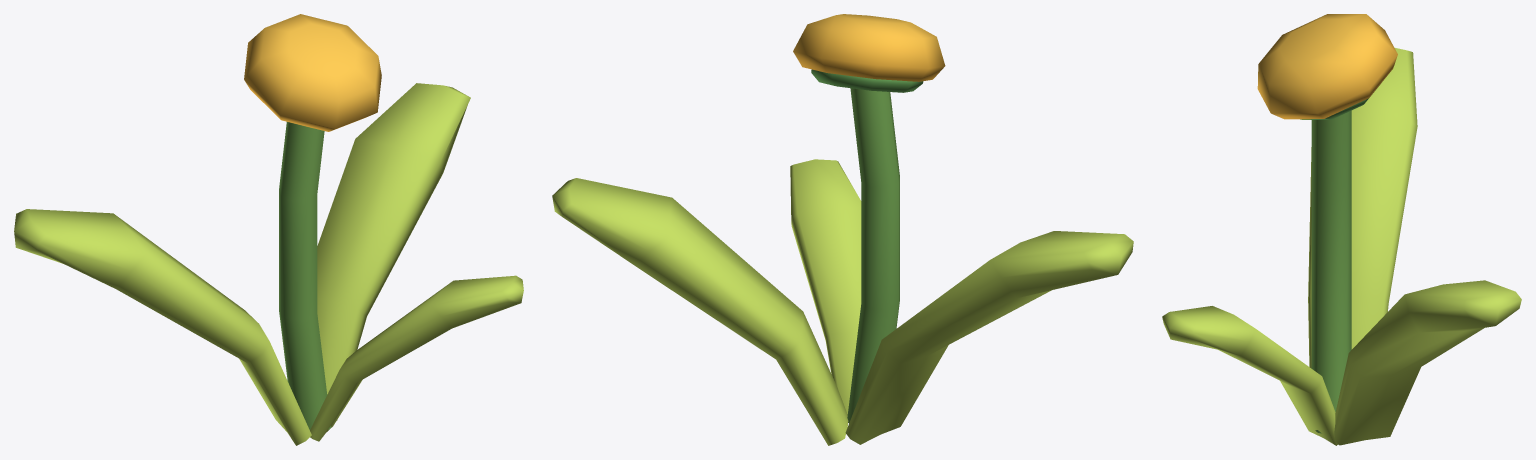
The model's file is daisy_toon_material_0.001.glb.
3 renders of one model, left to right at view 1: azimuth 30°, elevation 25°; view 2: azimuth 150°, elevation 25°; view 3: azimuth 270°, elevation 25°, orthographic. The views are drawn at different scales.
Visible parts, largest first — view 1: daisy_toon_material_0.001; view 2: daisy_toon_material_0.001; view 3: daisy_toon_material_0.001.
Part boxes in pixels (left/top/right/bottom): daisy_toon_material_0.001: left=14, top=14, right=523, bottom=445; daisy_toon_material_0.001: left=552, top=14, right=1133, bottom=445; daisy_toon_material_0.001: left=1162, top=14, right=1521, bottom=445.
Size of the model in its own units: 0.6346 by 0.4896 by 0.3922.
Materials: 1 (1 with a texture image).
